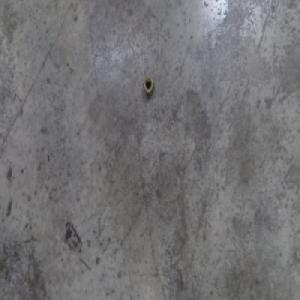Nut: (142, 73, 155, 97)
